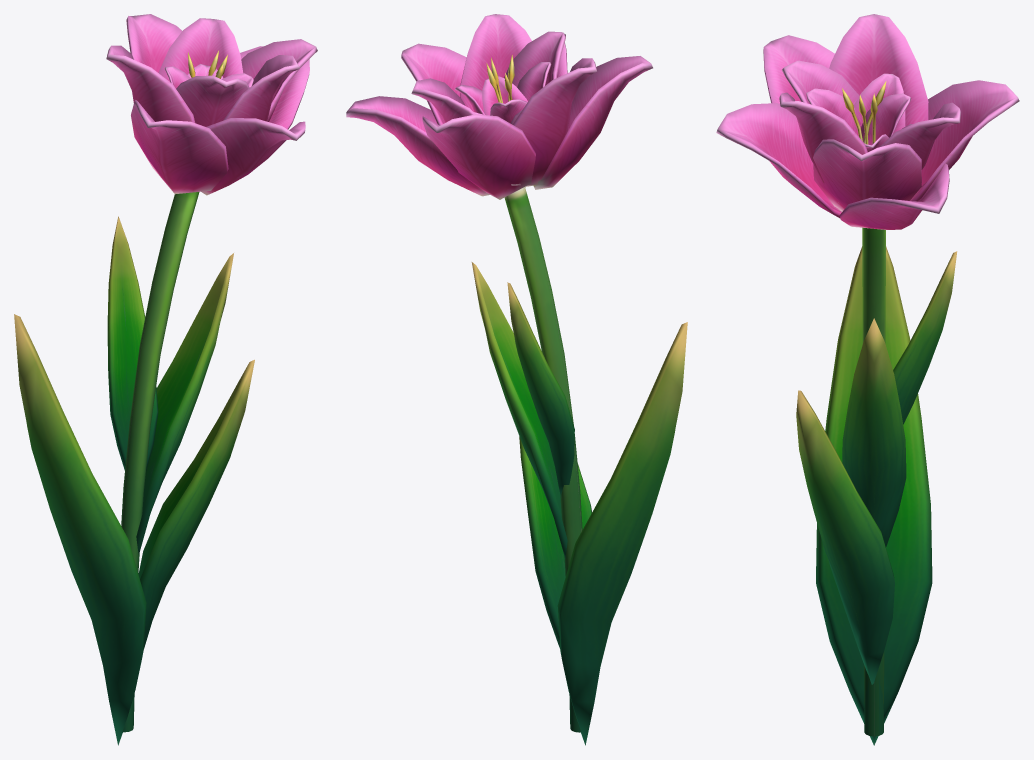
The model's file is hua.FBX.
3 renders of one model, left to right at view 1: azimuth 30°, elevation 25°; view 2: azimuth 150°, elevation 25°; view 3: azimuth 270°, elevation 25°, orthographic. The views are drawn at different scales.
Visible parts, largest first — view 1: hua; view 2: hua; view 3: hua.
Boxes of the visible parts, x1,y1,x2,y2 form: hua: [14, 14, 317, 745]; hua: [346, 14, 687, 745]; hua: [716, 14, 1019, 745].
Size of the model in its own units: 165 by 346 by 130.
